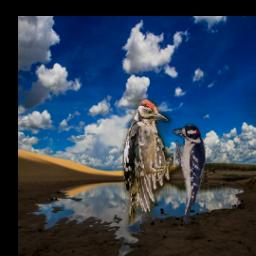Woodpecker: (122, 99, 174, 225), (174, 123, 207, 225)
